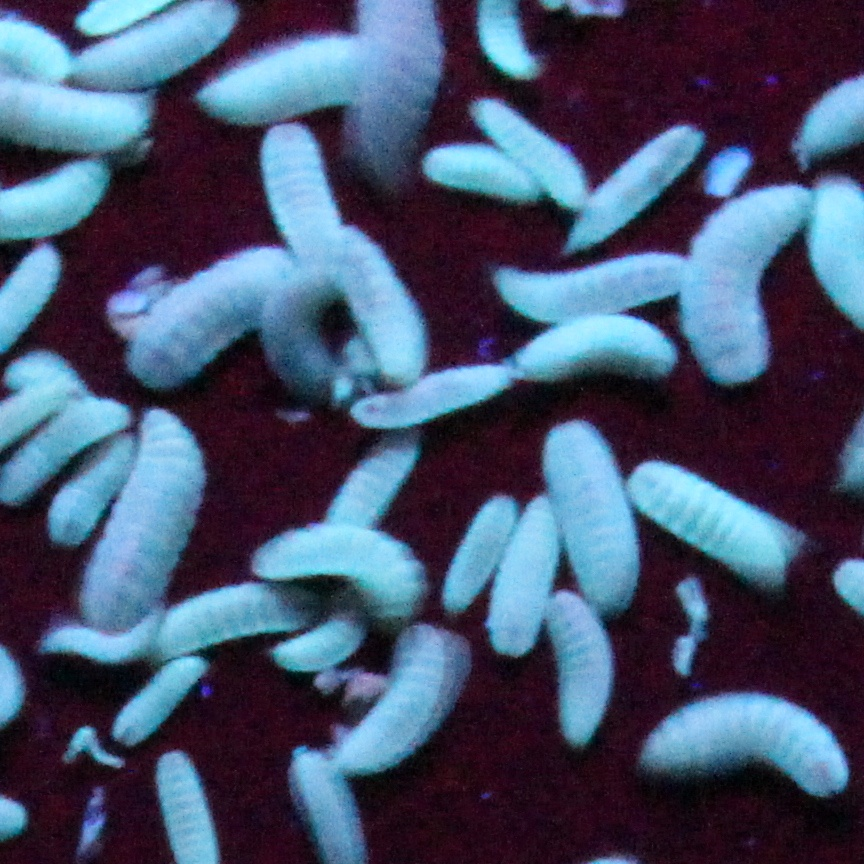larve: (79, 401, 210, 627), (687, 184, 807, 381), (643, 694, 852, 805), (627, 451, 800, 578), (128, 249, 277, 378), (542, 416, 638, 612), (569, 122, 708, 247), (339, 629, 455, 768), (255, 529, 418, 625), (201, 37, 372, 122), (463, 89, 584, 206), (338, 229, 428, 381), (76, 1, 229, 87), (496, 251, 680, 320), (155, 580, 314, 657), (489, 491, 560, 654), (352, 360, 507, 429), (259, 123, 336, 261), (542, 592, 608, 746), (49, 435, 139, 546), (265, 271, 335, 405), (511, 327, 672, 384), (442, 489, 514, 615), (420, 142, 538, 213), (328, 436, 414, 525), (41, 604, 167, 660), (118, 666, 210, 742), (272, 627, 362, 675)
